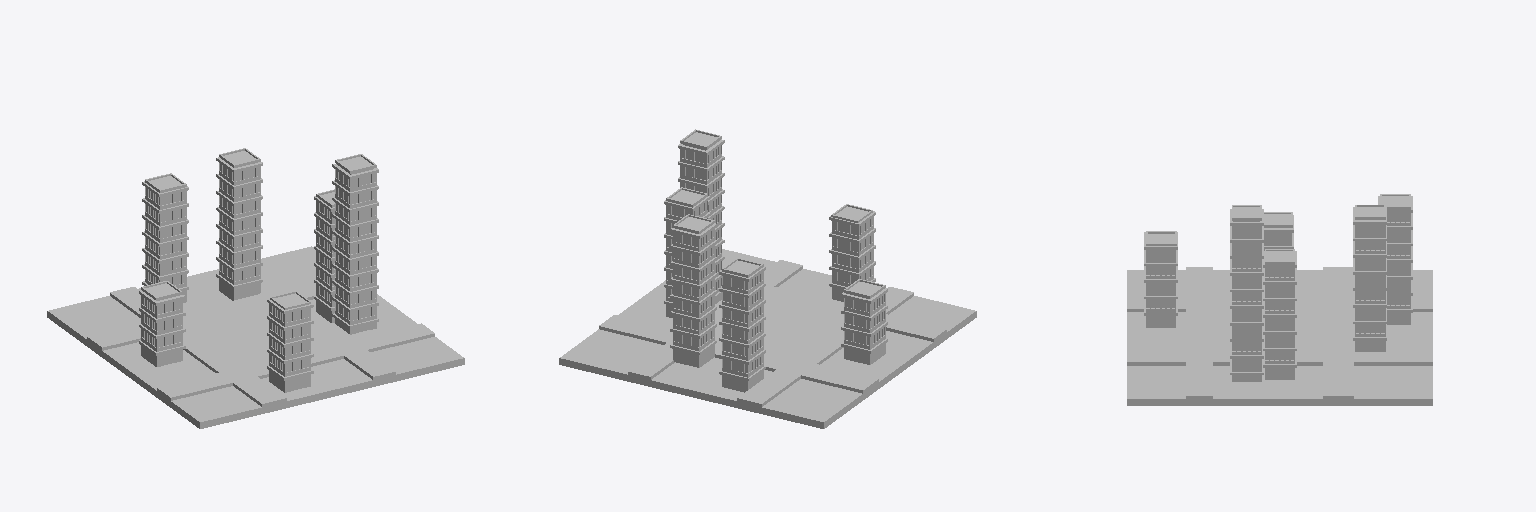
The model's file is city1.obj.
The picture shows the model from 3 angles: view 1: azimuth 30°, elevation 25°; view 2: azimuth 150°, elevation 25°; view 3: azimuth 270°, elevation 25°; orthographic projection.
Parts seen in each view (by area): view 1: Plane.018, Plane.012, Plane, Plane.003, Plane.015, Plane.009, Plane.006, Plane.017, Plane.002, Plane.011, Plane.013; view 2: Plane.018, Plane, Plane.003, Plane.012, Plane.015, Plane.009, Plane.006, Plane.002, Plane.011, Plane.005, Plane.013; view 3: Plane.018, Plane.012, Plane, Plane.006, Plane.003, Plane.015, Plane.009, Plane.008.
Boxes of the visible parts, x1=… form: Plane.018: x1=47, y1=246, x2=464, y2=428; Plane.012: x1=332, y1=164, x2=378, y2=324; Plane: x1=216, y1=157, x2=262, y2=284; Plane.003: x1=142, y1=181, x2=188, y2=288; Plane.015: x1=267, y1=298, x2=313, y2=376; Plane.009: x1=139, y1=290, x2=185, y2=351; Plane.006: x1=314, y1=196, x2=334, y2=306; Plane.017: x1=267, y1=365, x2=313, y2=392; Plane.002: x1=216, y1=274, x2=262, y2=300; Plane.011: x1=139, y1=340, x2=185, y2=366; Plane.013: x1=335, y1=154, x2=376, y2=174; Plane.018: x1=559, y1=249, x2=976, y2=428; Plane: x1=670, y1=223, x2=716, y2=351; Plane.003: x1=719, y1=266, x2=765, y2=377; Plane.012: x1=678, y1=139, x2=724, y2=294; Plane.015: x1=829, y1=211, x2=875, y2=286; Plane.009: x1=841, y1=288, x2=887, y2=349; Plane.006: x1=664, y1=196, x2=710, y2=301; Plane.002: x1=670, y1=340, x2=716, y2=367; Plane.011: x1=841, y1=338, x2=887, y2=364; Plane.005: x1=719, y1=366, x2=765, y2=392; Plane.013: x1=680, y1=129, x2=721, y2=150; Plane.018: x1=1127, y1=267, x2=1432, y2=405; Plane.012: x1=1230, y1=209, x2=1263, y2=371; Plane: x1=1353, y1=207, x2=1386, y2=336; Plane.006: x1=1263, y1=251, x2=1296, y2=363; Plane.003: x1=1378, y1=196, x2=1412, y2=308; Plane.015: x1=1144, y1=232, x2=1177, y2=312; Plane.009: x1=1264, y1=215, x2=1293, y2=250; Plane.008: x1=1263, y1=351, x2=1296, y2=379.
Size of the model in its own units: 20 by 12.33 by 20.